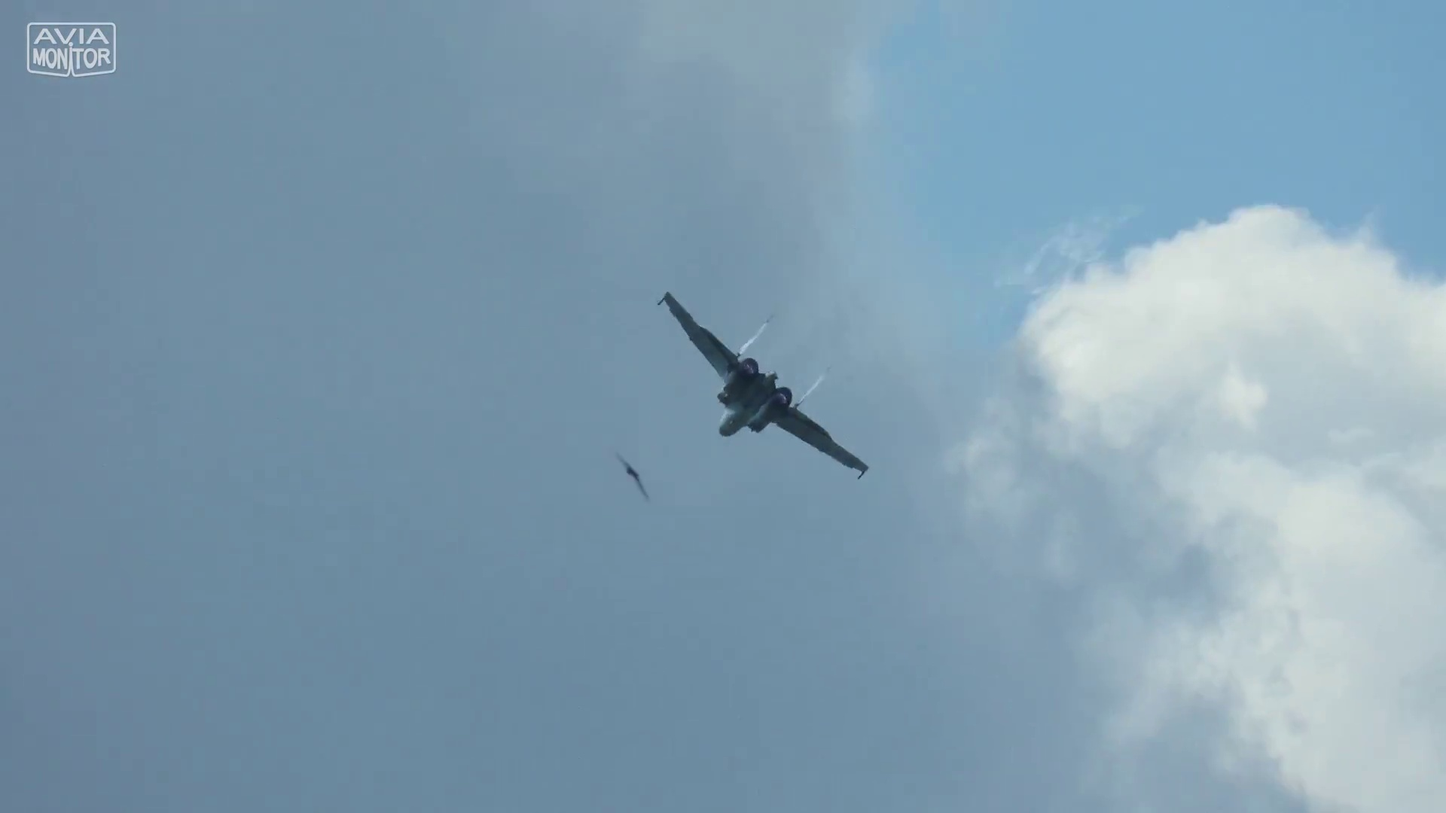Su35: (649, 288, 875, 487)
